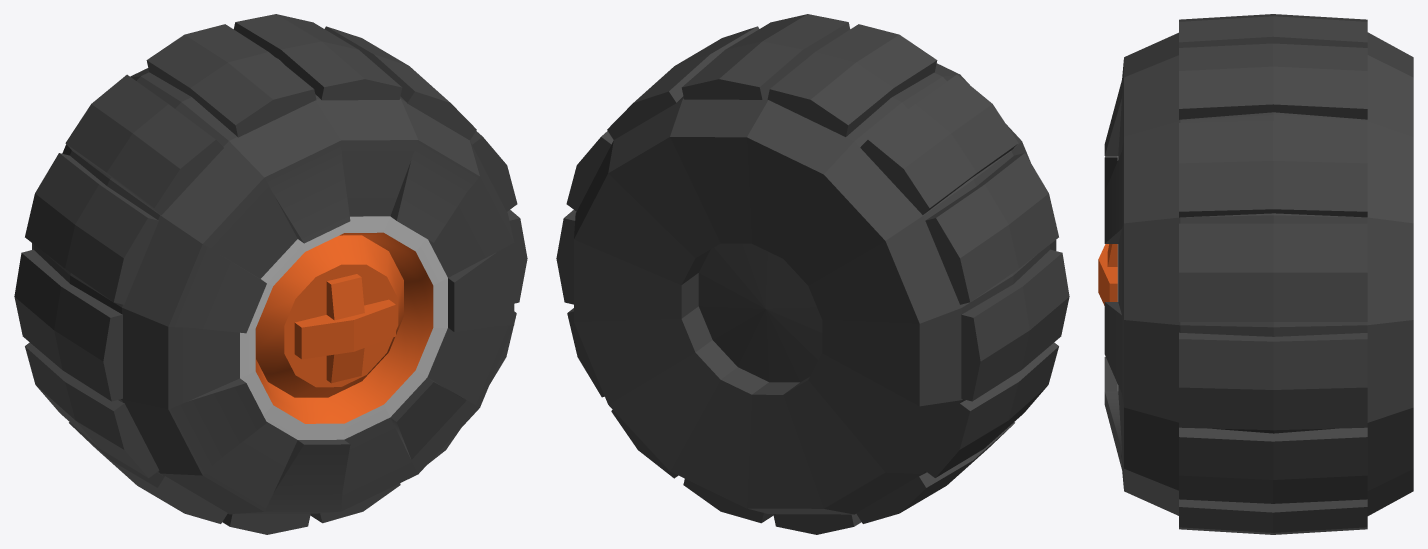
File: wheel9.fbx
3 views of the same model, side by side, from view 1: azimuth 30°, elevation 25°; view 2: azimuth 150°, elevation 25°; view 3: azimuth 270°, elevation 25° (orthographic). The views are drawn at different scales.
Parts seen in each view (by area): view 1: lanot_wheel7_L; view 2: lanot_wheel7_L; view 3: lanot_wheel7_L.
Part boxes in pixels (box(x1,y1,x2,y2)): lanot_wheel7_L: box(14, 14, 527, 534); lanot_wheel7_L: box(556, 14, 1069, 534); lanot_wheel7_L: box(1098, 14, 1413, 534).
Bounding box in the file's own units: 152 × 149 × 90.09.
